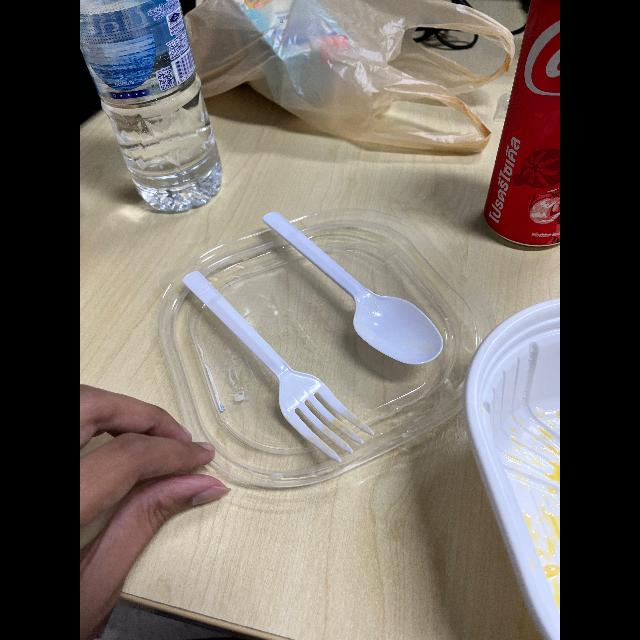plastic_cultery: (174, 272, 378, 464), (251, 216, 444, 364)
